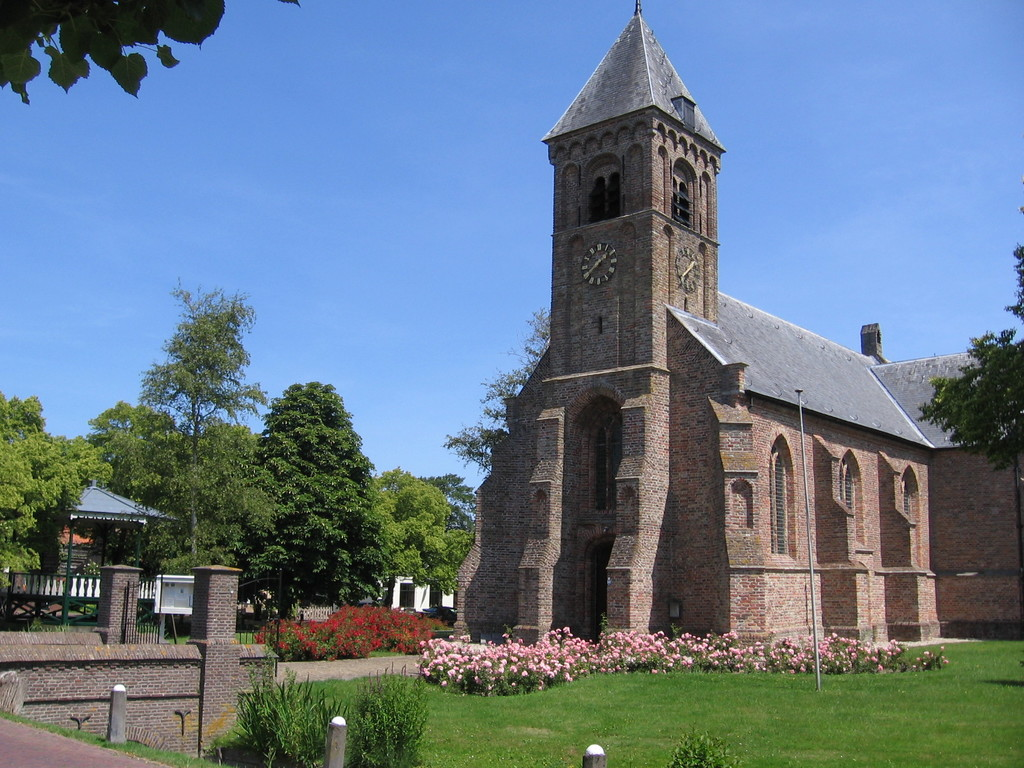Tree: (1, 275, 557, 604), (914, 201, 1023, 494), (0, 0, 301, 106)
